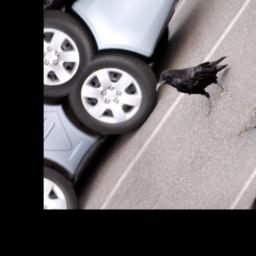Crow: (150, 30, 244, 122)
